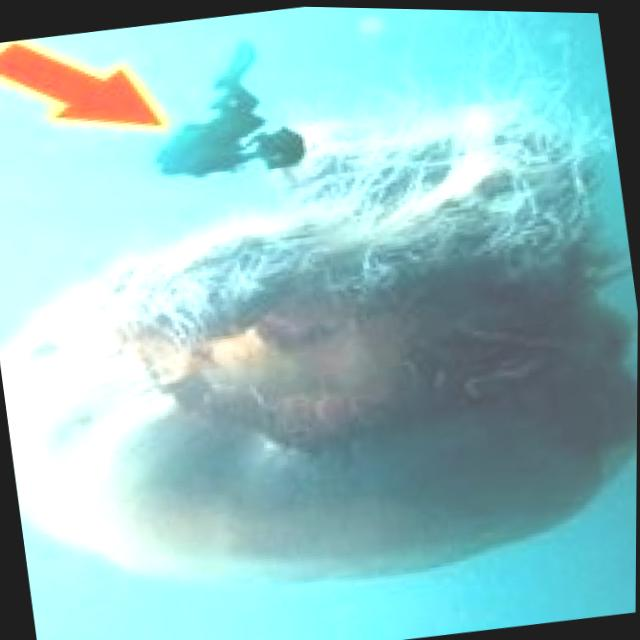Moon-jellyfish: (0, 73, 640, 633)
